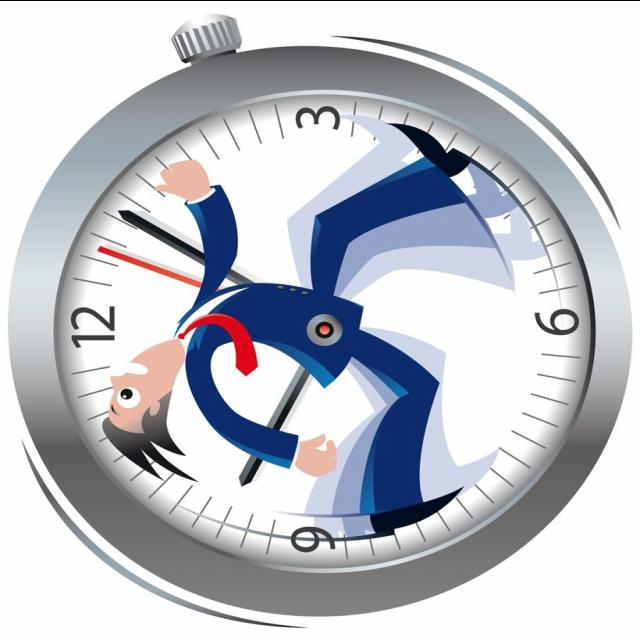clock: (0, 31, 640, 626)
